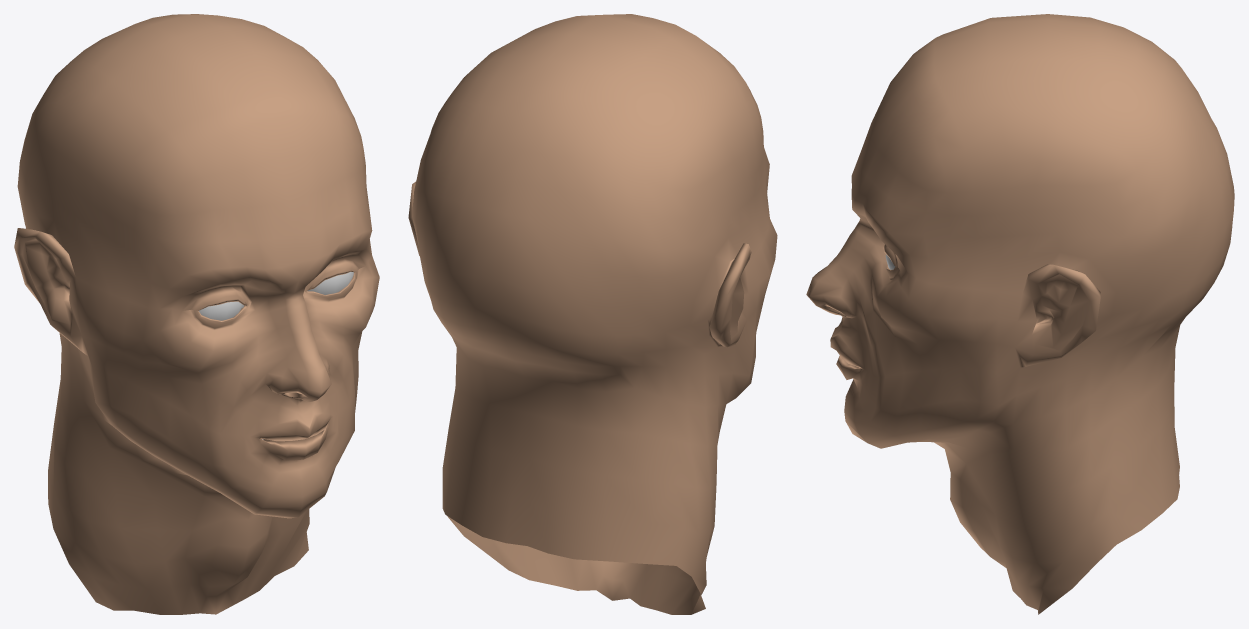
File: Human_Head_Modeling.fbx
3 views of the same model, side by side, from view 1: azimuth 30°, elevation 25°; view 2: azimuth 150°, elevation 25°; view 3: azimuth 270°, elevation 25° (orthographic). The views are drawn at different scales.
Parts seen in each view (by area): view 1: Cube, Cube.001; view 2: Cube; view 3: Cube.
Boxes of the visible parts, x1,y1,x2,y2 form: Cube: [14, 14, 379, 614]; Cube.001: [199, 272, 353, 320]; Cube: [408, 14, 777, 614]; Cube: [806, 14, 1234, 614].
Size of the model in its own units: 570 by 955 by 664.
